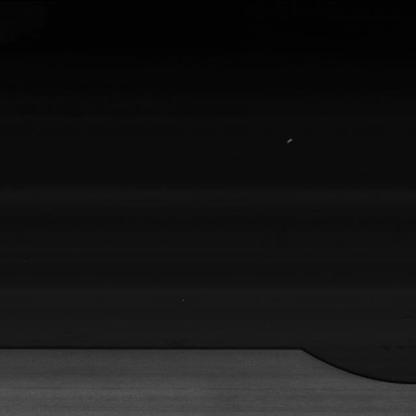crescent_gap: (284, 341, 415, 393)
